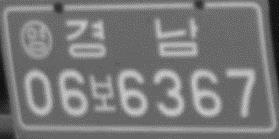0: (23, 68, 54, 116)
3: (152, 67, 184, 118)
6: (189, 68, 223, 119), (57, 68, 90, 117), (117, 68, 148, 117)
7: (224, 67, 256, 117)
경남_D: (63, 15, 200, 60)
보: (88, 74, 117, 113)
영: (19, 18, 53, 58)
